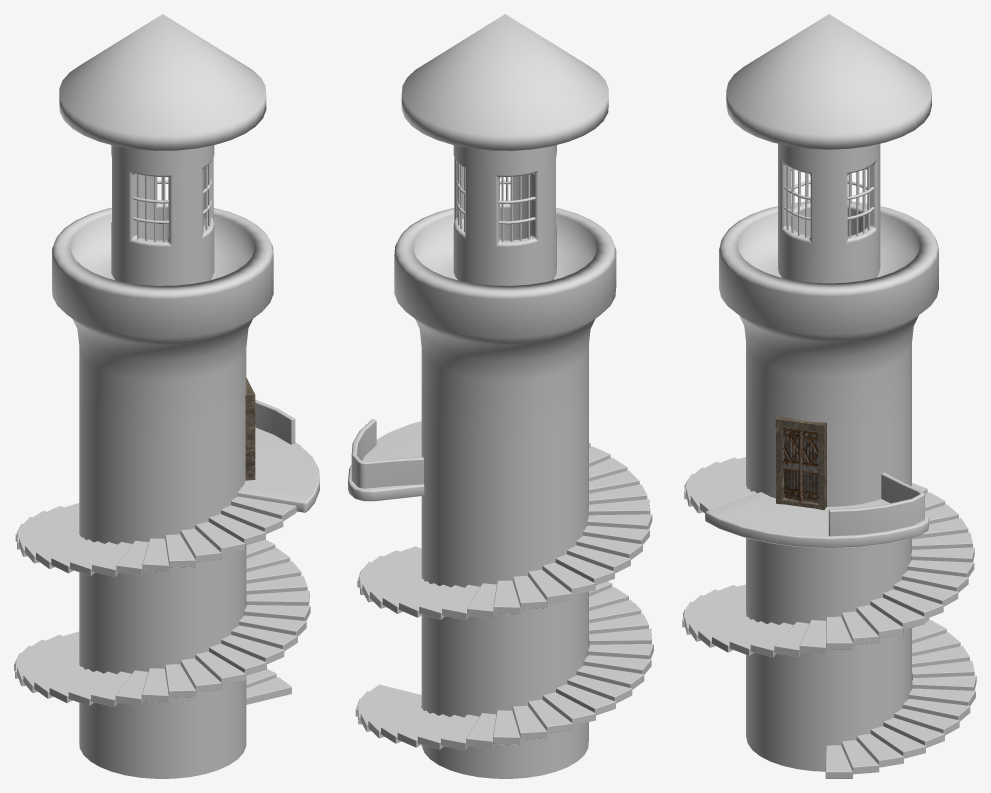
Rendered from SpiralTower.fbx.
The picture shows the model from 3 angles, left to right: view 1: azimuth 30°, elevation 25°; view 2: azimuth 150°, elevation 25°; view 3: azimuth 270°, elevation 25°; orthographic projection.
Visible parts, largest first — view 1: SpiralTower_Main, SpiralTower_WoodenStairs, SpiralTower_Roof, SpiralTower_UpperFloor, SpiralTower_Balcony, SpiralTower_Bars, Metal Rock Door.001; view 2: SpiralTower_Main, SpiralTower_WoodenStairs, SpiralTower_Roof, SpiralTower_UpperFloor, SpiralTower_Balcony, SpiralTower_Bars; view 3: SpiralTower_Main, SpiralTower_WoodenStairs, SpiralTower_Roof, SpiralTower_UpperFloor, SpiralTower_Balcony, Metal Rock Door.001, SpiralTower_Bars.
Part boxes in pixels (x1,y1,x2,y2): SpiralTower_Main: (52,208,273,778); SpiralTower_WoodenStairs: (14,496,310,706); SpiralTower_Roof: (59,14,266,150); SpiralTower_UpperFloor: (111,145,214,285); SpiralTower_Balcony: (237,399,319,512); SpiralTower_Bars: (132,162,212,242); Metal Rock Door.001: (245,377,255,480); SpiralTower_Main: (394,208,616,778); SpiralTower_WoodenStairs: (355,442,653,750); SpiralTower_Roof: (401,14,608,150); SpiralTower_UpperFloor: (453,145,556,285); SpiralTower_Balcony: (348,419,424,501); SpiralTower_Bars: (456,163,535,241); SpiralTower_Main: (719,201,938,771); SpiralTower_WoodenStairs: (682,457,976,778); SpiralTower_Roof: (726,14,931,149); SpiralTower_UpperFloor: (778,143,880,283); SpiralTower_Balcony: (705,472,928,548); Metal Rock Door.001: (775,415,826,509); SpiralTower_Bars: (784,166,874,237).
Size of what is drawn, in the model's own units: 10.97 by 28.84 by 10.64.
